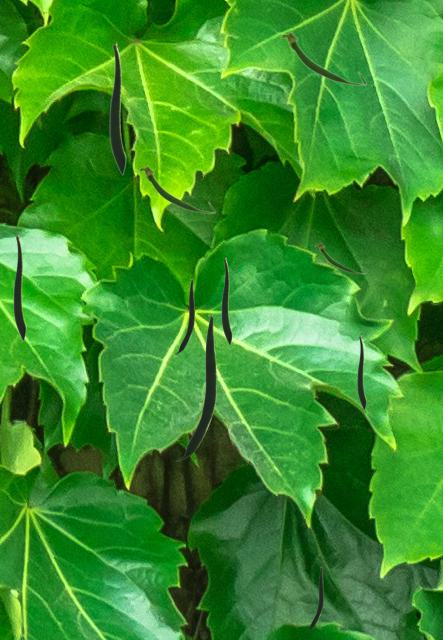french_bean: (176, 315, 215, 460), (280, 31, 366, 85), (138, 165, 215, 213), (109, 42, 125, 174), (314, 242, 365, 273), (175, 279, 193, 353), (13, 234, 25, 340), (307, 567, 322, 629), (221, 257, 231, 344), (357, 335, 365, 409)
